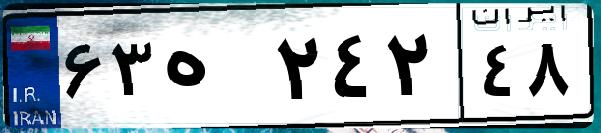2: (270, 28, 330, 110), (385, 28, 445, 110)
3: (110, 28, 158, 98)
4: (330, 28, 385, 110), (475, 38, 525, 113)
6: (57, 26, 110, 100)
8: (525, 38, 570, 115)
ه: (158, 20, 270, 120)
